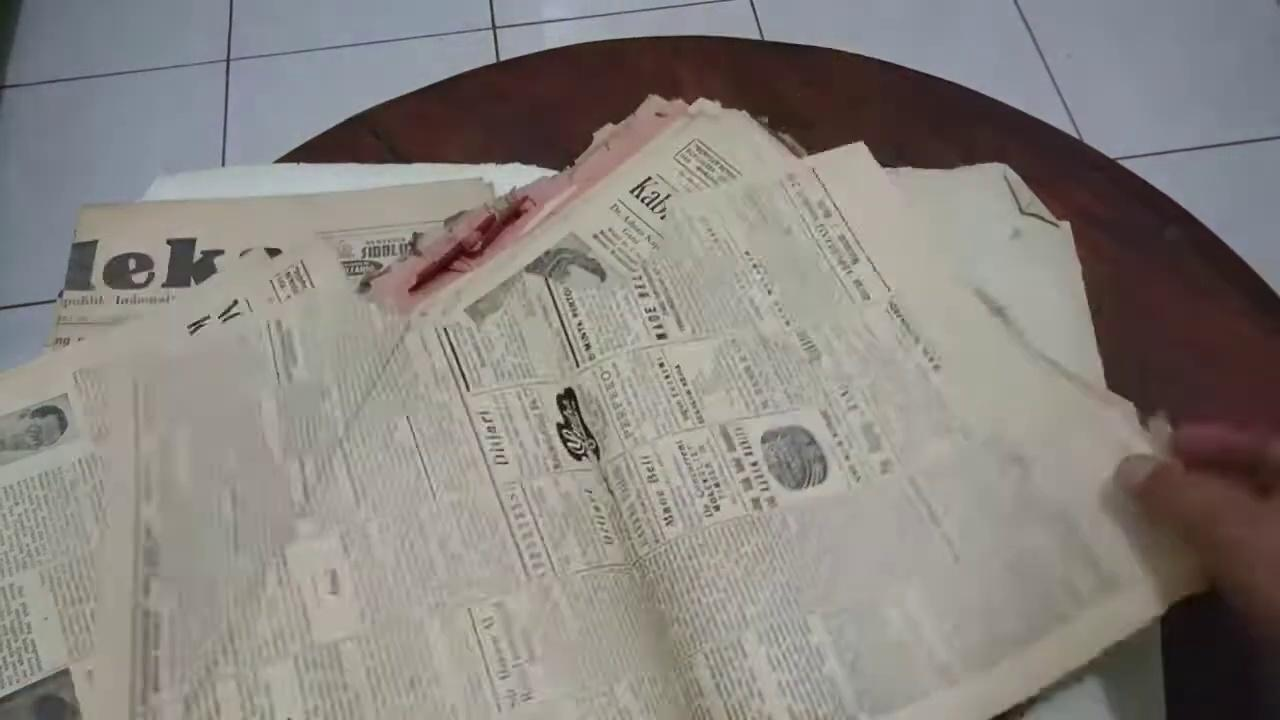Kertas: (11, 174, 550, 713)
